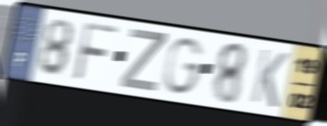8: (210, 41, 249, 105), (36, 18, 76, 78)
F: (71, 19, 121, 84)
G: (162, 35, 207, 97)
K: (249, 46, 290, 111)
Z: (117, 27, 169, 95)
